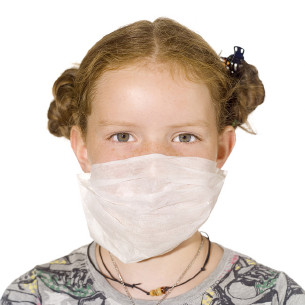face_mask: (87, 63, 216, 252)
